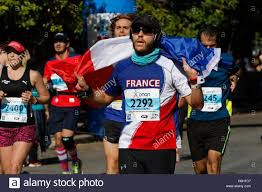French Flag: (76, 38, 218, 76)
